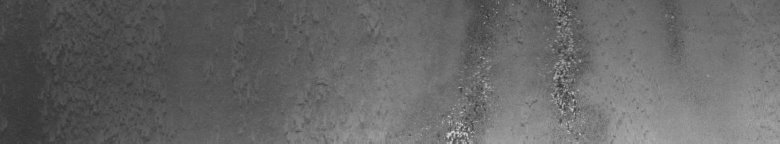hc: (437, 4, 584, 136)
